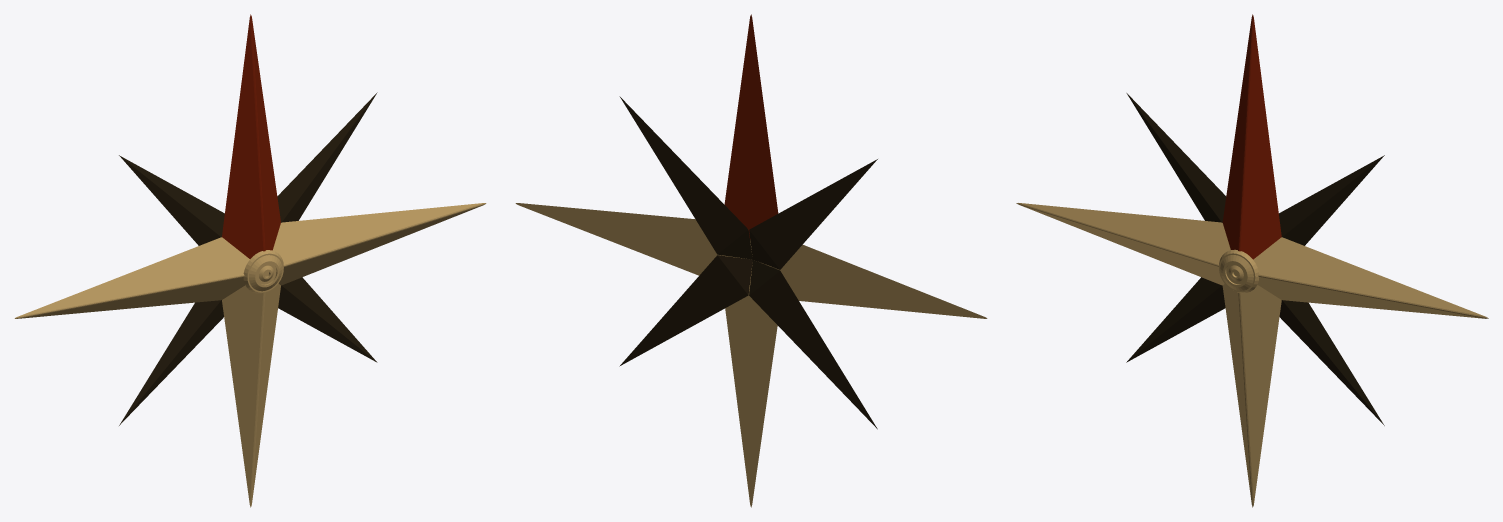
Rendered from pointer.gltf.
3 views of the same model, side by side, from view 1: azimuth 30°, elevation 25°; view 2: azimuth 150°, elevation 25°; view 3: azimuth 330°, elevation 25° (orthographic).
Visible parts, largest first — view 1: Plane.033, Plane.035, Plane.039, Plane.036, Plane.037, Plane.038; view 2: Plane.033, Plane.035, Plane.038, Plane.037, Plane.036, Plane.039; view 3: Plane.033, Plane.035, Plane.037, Plane.038, Plane.039, Plane.036.
Part boxes in pixels (<box>): Plane.033: <box>14,203,486,507</box>; Plane.035: <box>222,14,280,258</box>; Plane.039: <box>119,155,224,245</box>; Plane.036: <box>119,300,223,425</box>; Plane.037: <box>277,92,377,222</box>; Plane.038: <box>278,277,377,362</box>; Plane.033: <box>515,203,987,507</box>; Plane.035: <box>724,14,778,239</box>; Plane.038: <box>619,255,752,366</box>; Plane.037: <box>619,96,752,259</box>; Plane.036: <box>749,260,877,429</box>; Plane.039: <box>749,159,877,269</box>; Plane.033: <box>1016,203,1488,507</box>; Plane.035: <box>1222,14,1281,259</box>; Plane.037: <box>1279,155,1384,245</box>; Plane.038: <box>1279,300,1384,425</box>; Plane.039: <box>1126,93,1226,222</box>; Plane.036: <box>1126,277,1225,362</box>.
Size of the model in its own units: 2 by 2 by 0.1437.
